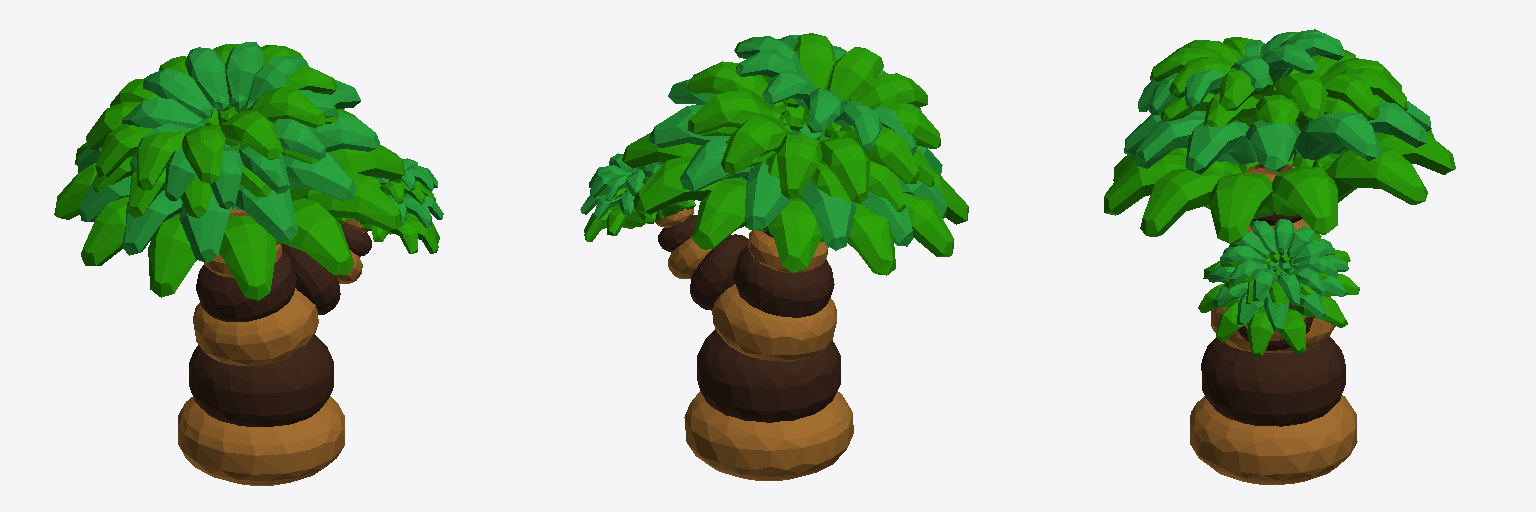
File: tree_01.obj
The picture shows the model from 3 angles: view 1: azimuth 30°, elevation 25°; view 2: azimuth 150°, elevation 25°; view 3: azimuth 270°, elevation 25°; orthographic projection.
Visible parts, largest first — view 1: Cylinder.006_Cylinder.007; view 2: Cylinder.006_Cylinder.007; view 3: Cylinder.006_Cylinder.007.
Part boxes in pixels (x1,y1,x2,y2): Cylinder.006_Cylinder.007: (54,42,443,485); Cylinder.006_Cylinder.007: (580,33,968,480); Cylinder.006_Cylinder.007: (1104,29,1455,484).
Bounding box in the file's own units: 3.5 × 3.9 × 3.01.